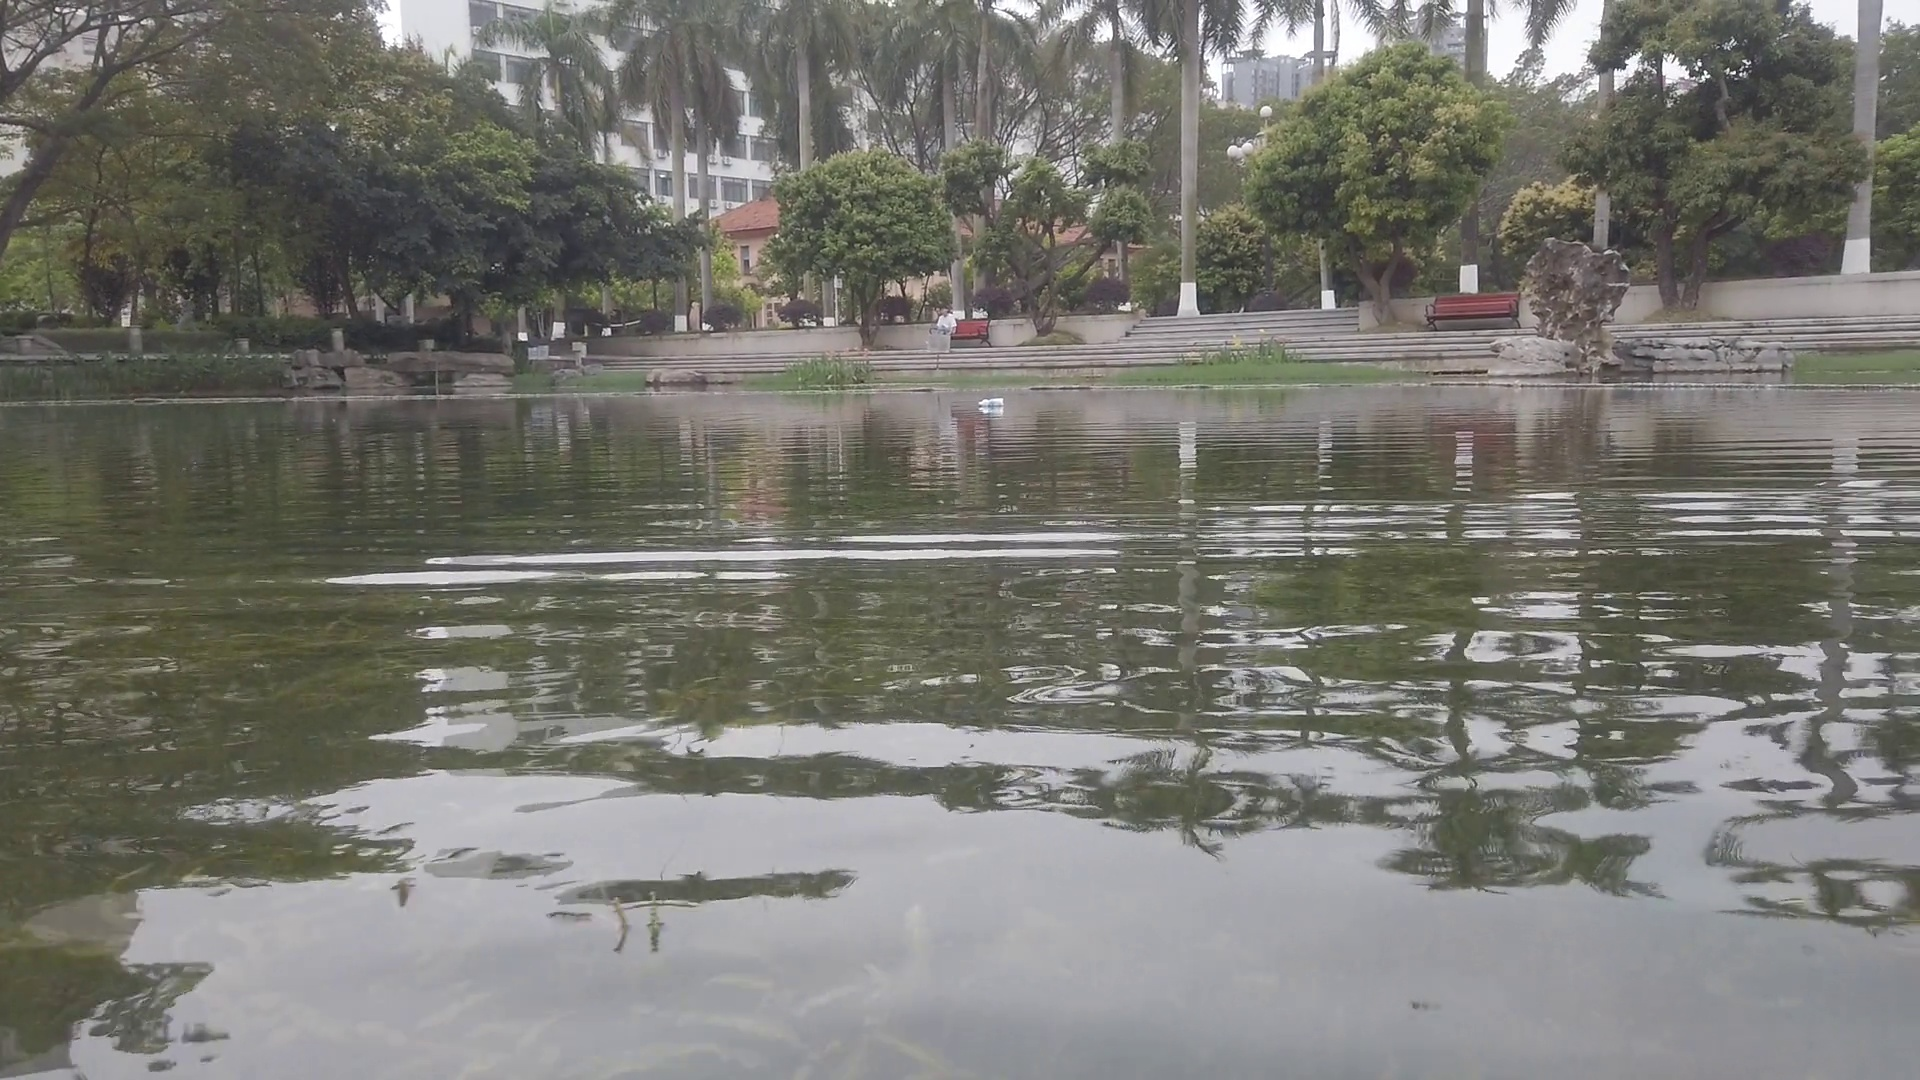bottle: (980, 398, 1005, 410)
